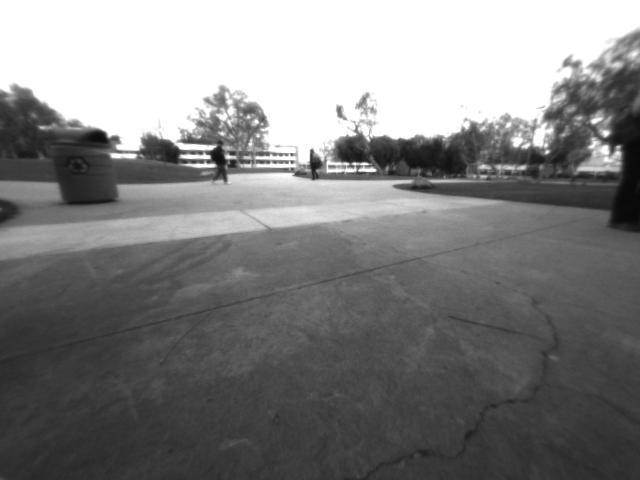trashcan: (42, 123, 124, 209)
